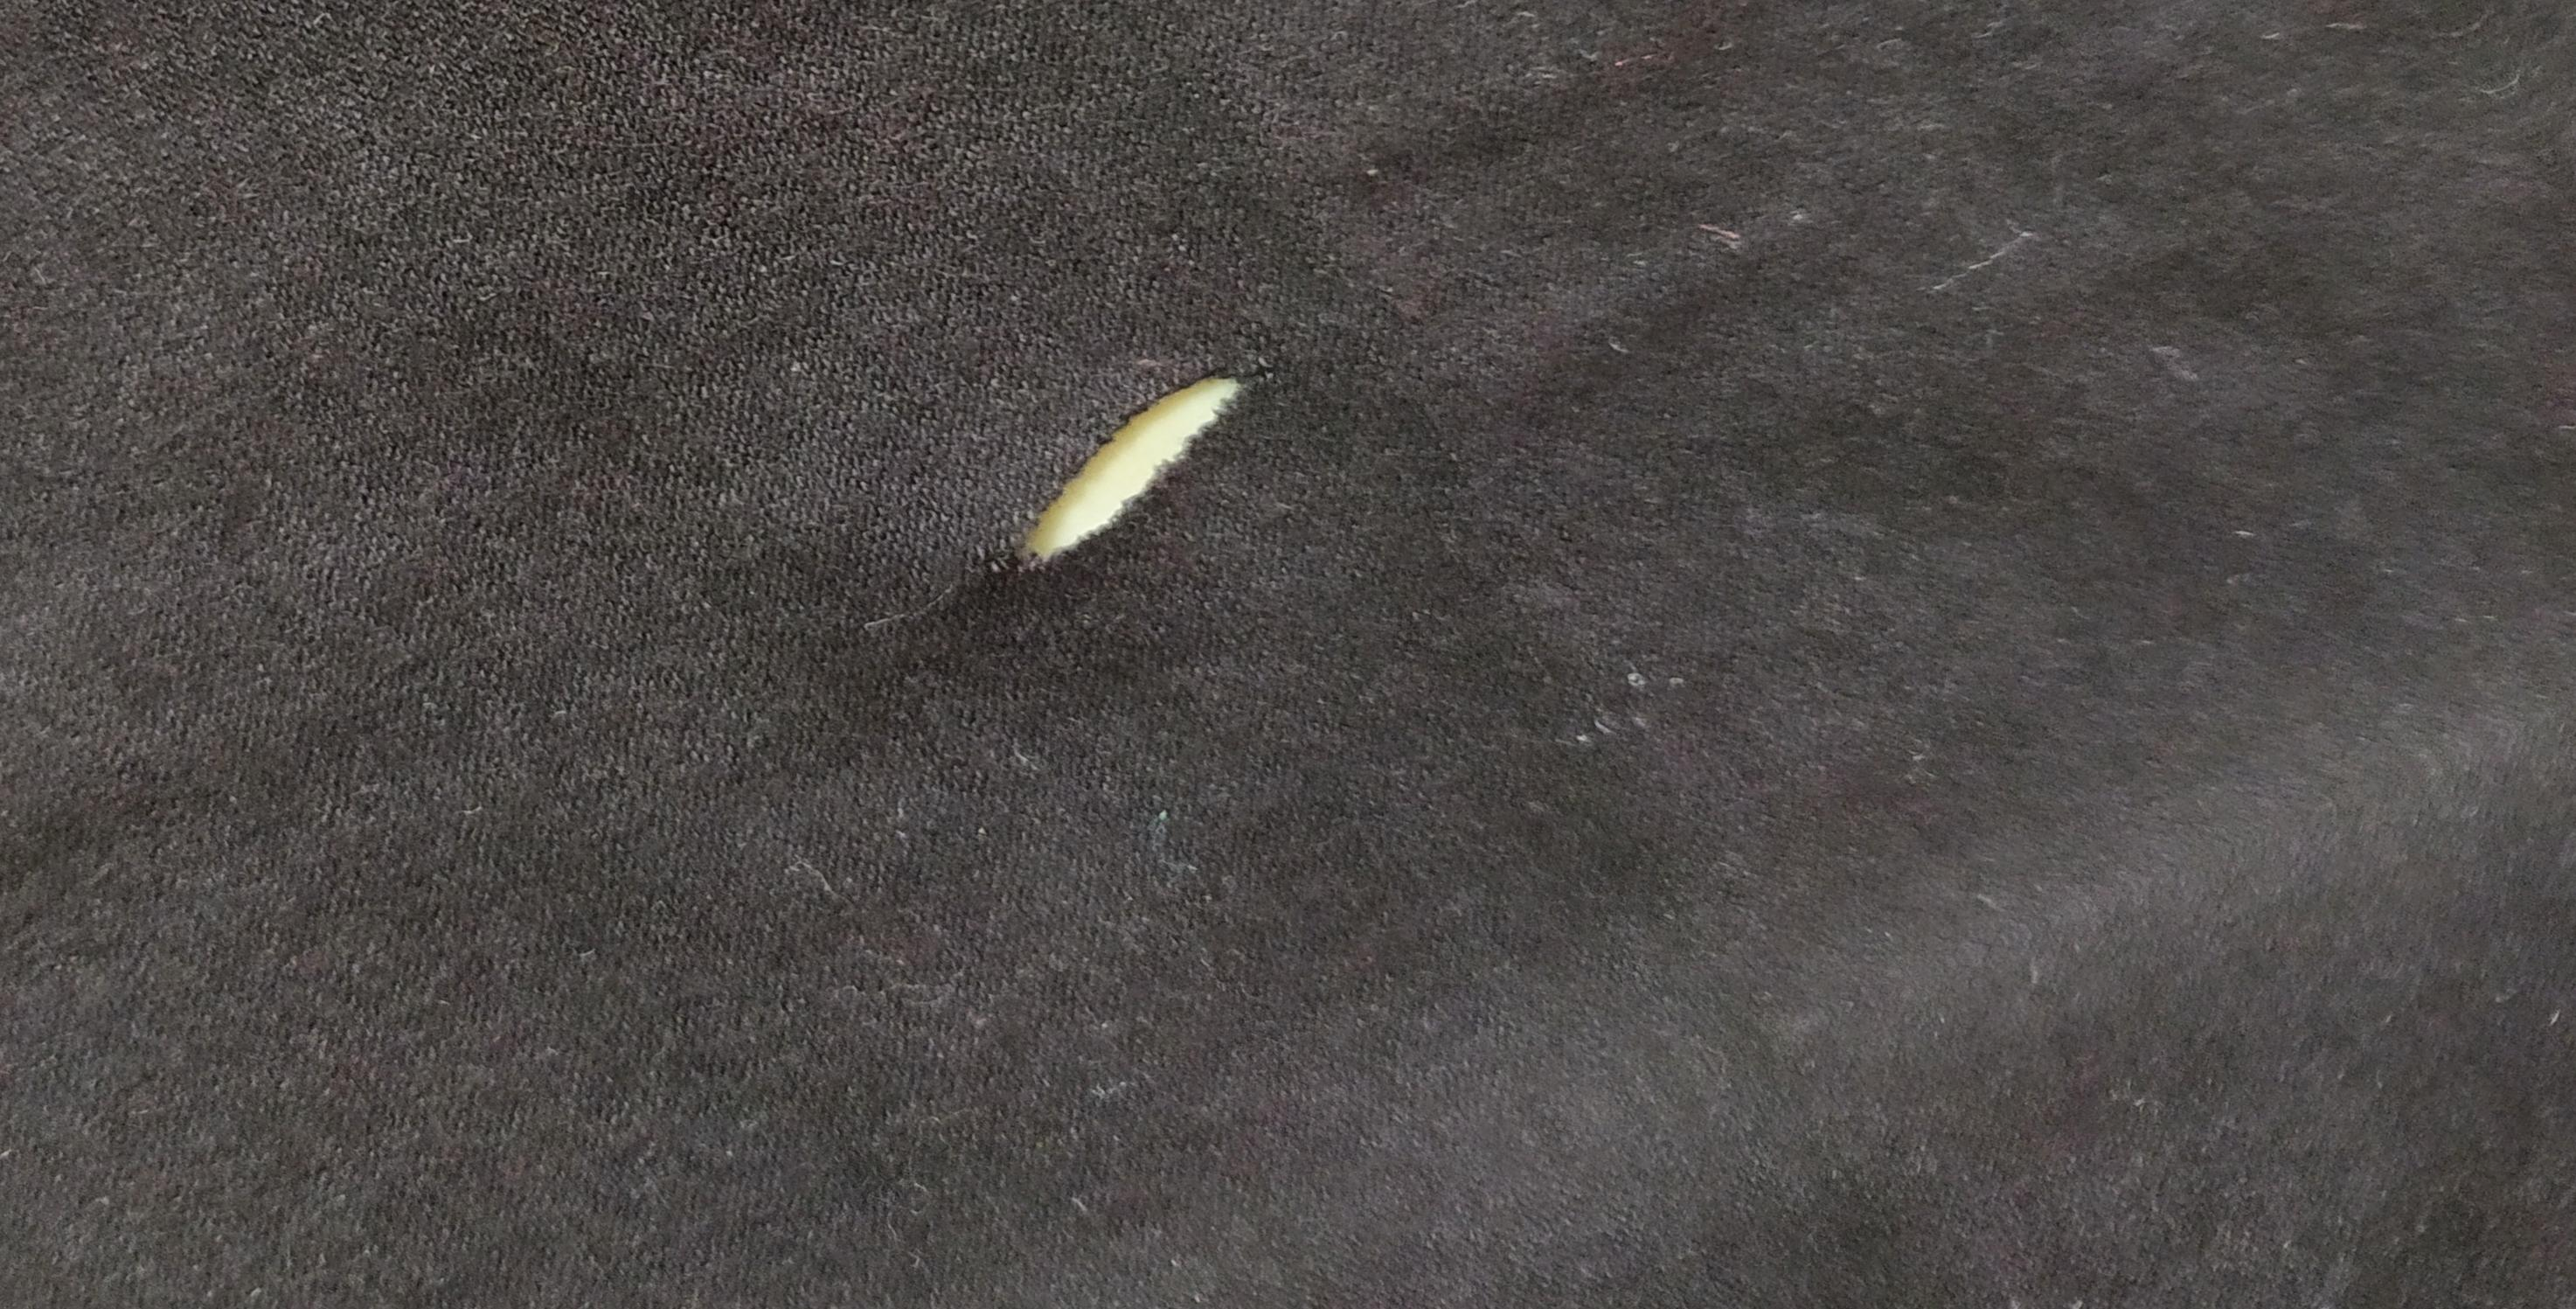hole: (984, 352, 1245, 596)
